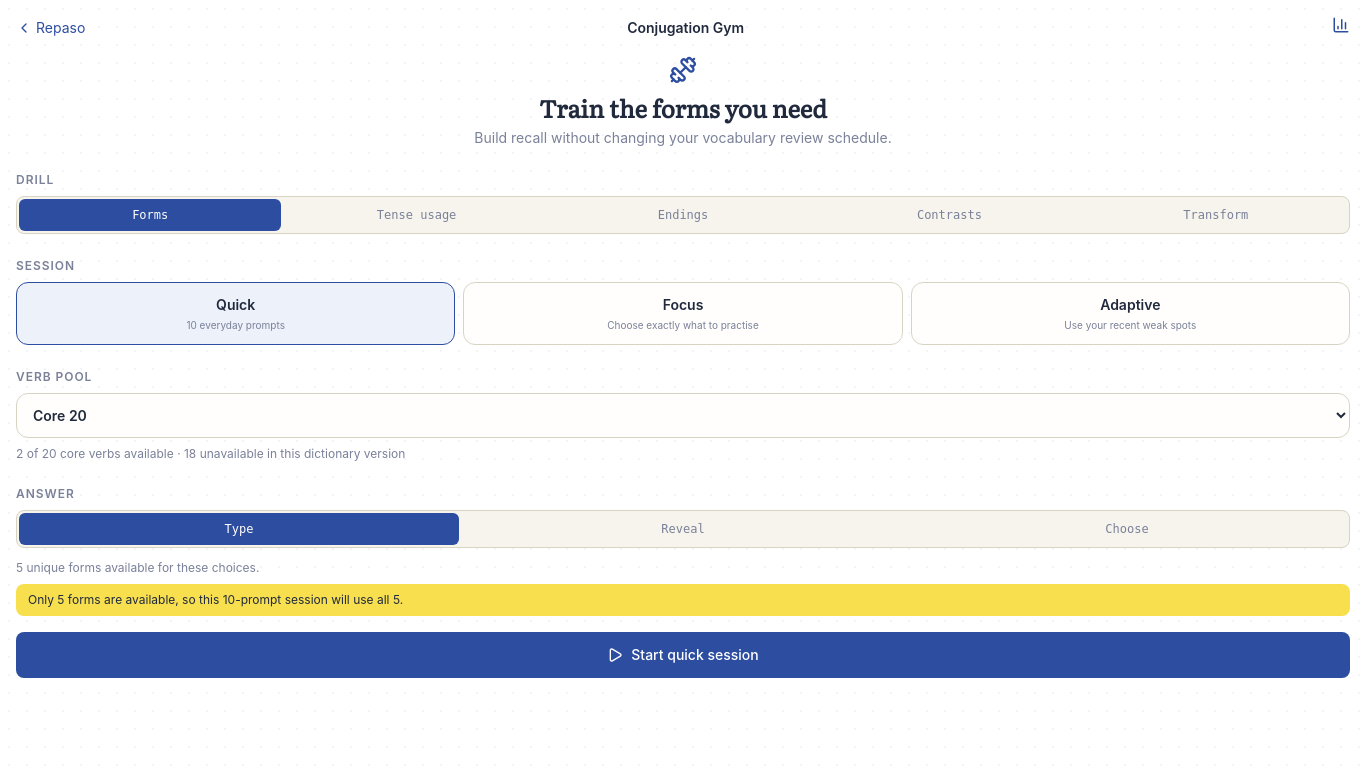
Test: Conjugation Gym setup › uses a grouped native pool picker and exposes the verified Regular pack
The image size is (1366, 768).
Select "Regulars" in the dropdown named "Verb pool". click: (683, 415)
box: [16,392,1350,438]
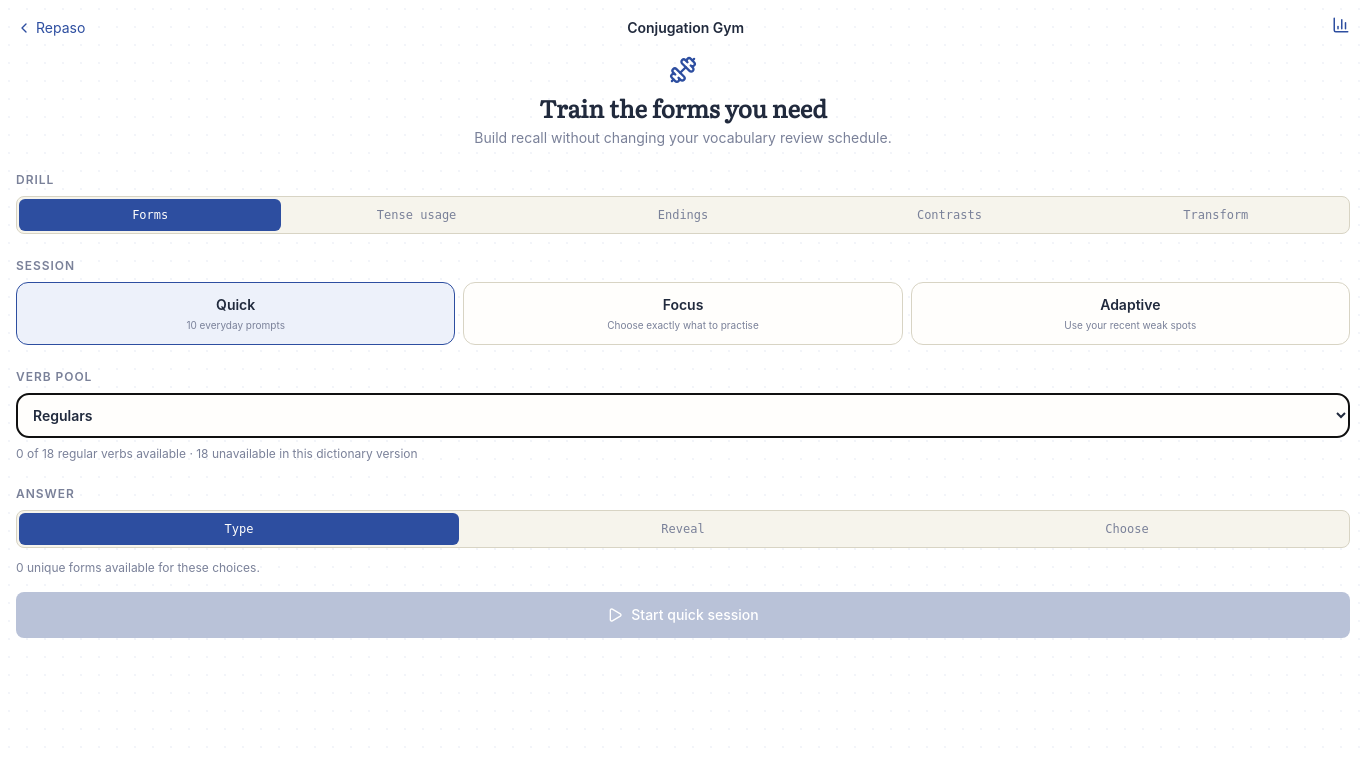
expect the text "0 of 18 regular verbs available" is shown: met, box [16,446,186,460]
expect the button "Start quick session" is disabled: met, box [16,592,1350,638]
